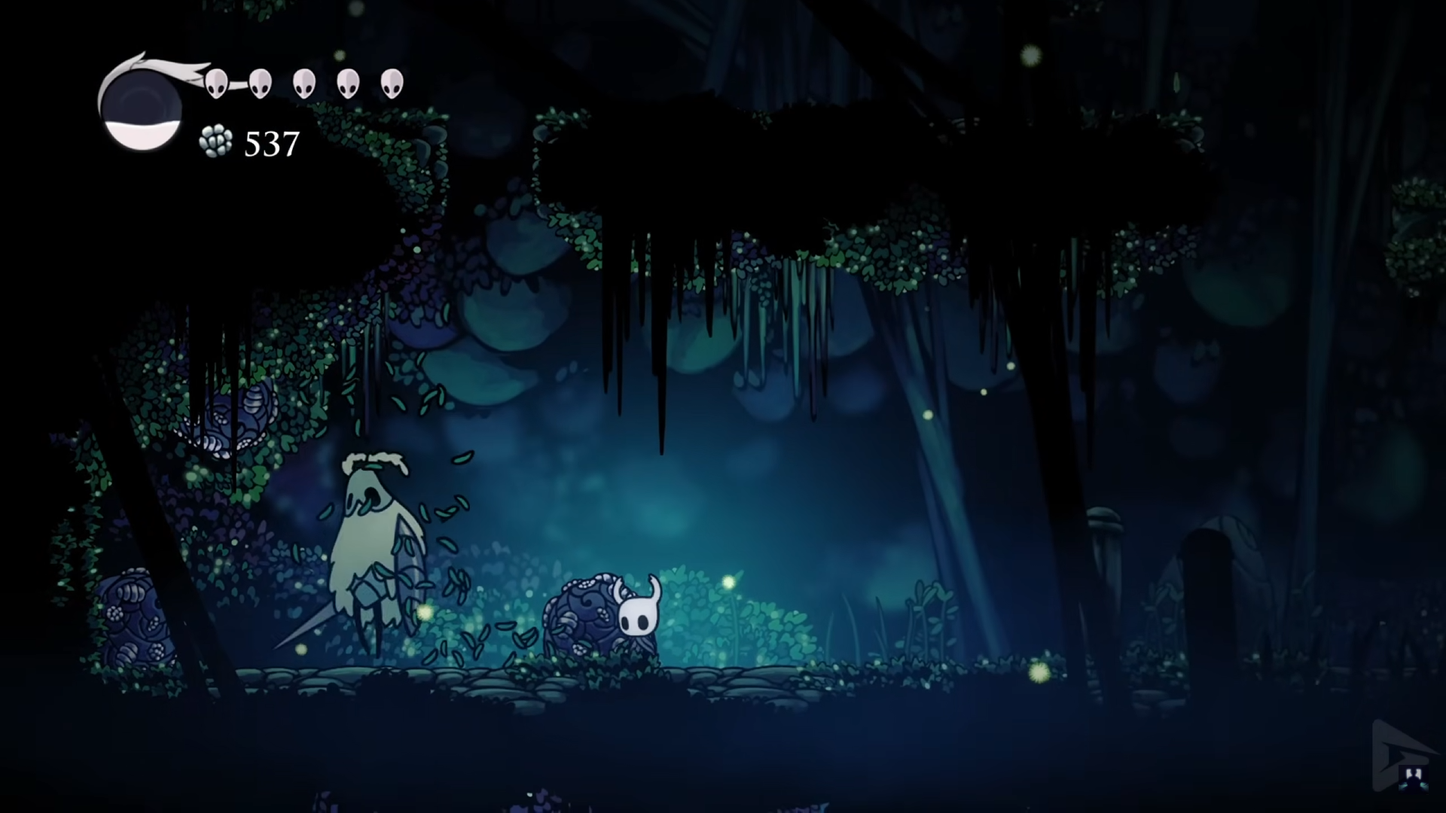HK: (613, 572, 666, 667)
